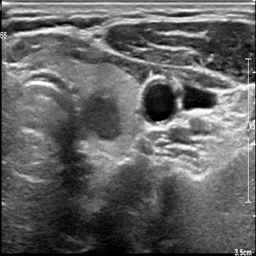mass: (77, 86, 124, 140)
